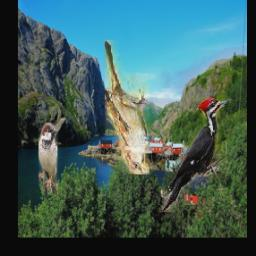Sparrow: (105, 40, 149, 174), (38, 123, 58, 196)
Woodpecker: (161, 96, 230, 212)
